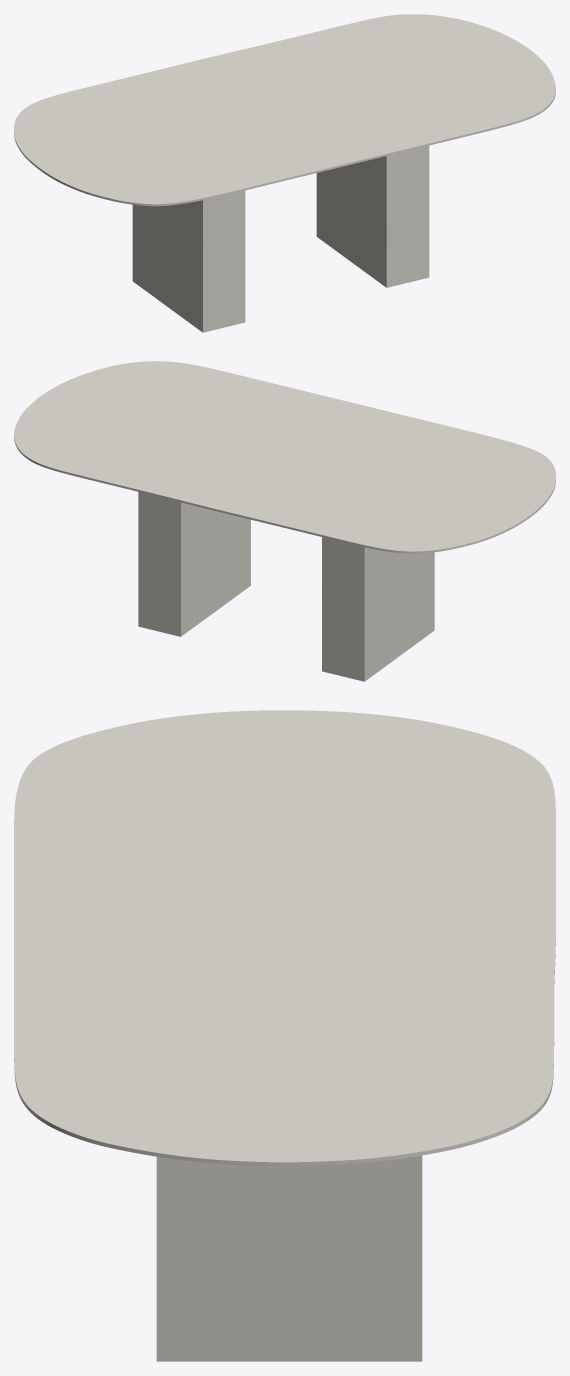
Rendered from pale_oval_facet_ridge.glb.
3 views of the same model, one above another, from view 1: azimuth 30°, elevation 25°; view 2: azimuth 150°, elevation 25°; view 3: azimuth 270°, elevation 25° (orthographic). The views are drawn at different scales.
Parts seen in each view (by area): view 1: facet_oval, ridge; view 2: facet_oval, ridge; view 3: facet_oval, ridge.
Part boxes in pixels (x1=…): facet_oval: x1=14, y1=14, x2=555, y2=206; ridge: x1=132, y1=145, x2=429, y2=332; facet_oval: x1=14, y1=361, x2=555, y2=553; ridge: x1=138, y1=492, x2=434, y2=681; facet_oval: x1=14, y1=710, x2=555, y2=1166; ridge: x1=156, y1=1155, x2=422, y2=1361.
Bounding box in the file's own units: 7.5 × 2.5 × 3.8.
1 material, 1 textured.
